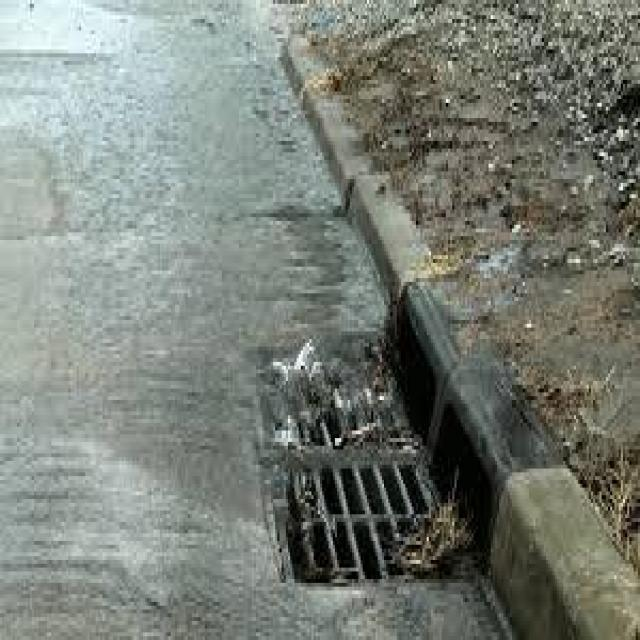bump: (391, 297, 640, 640)
hole: (262, 293, 514, 615)
